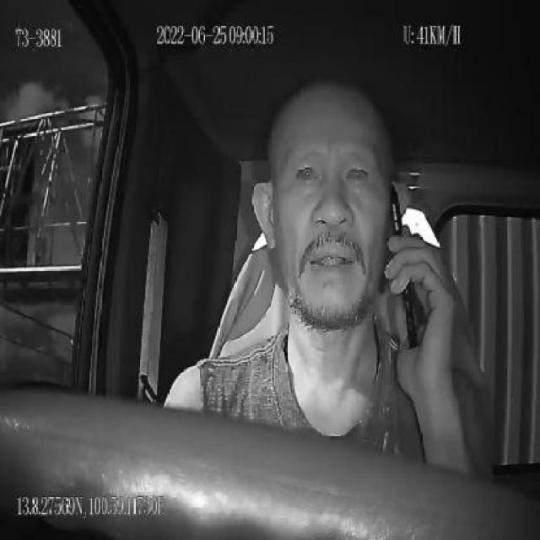phone: (388, 184, 419, 352)
